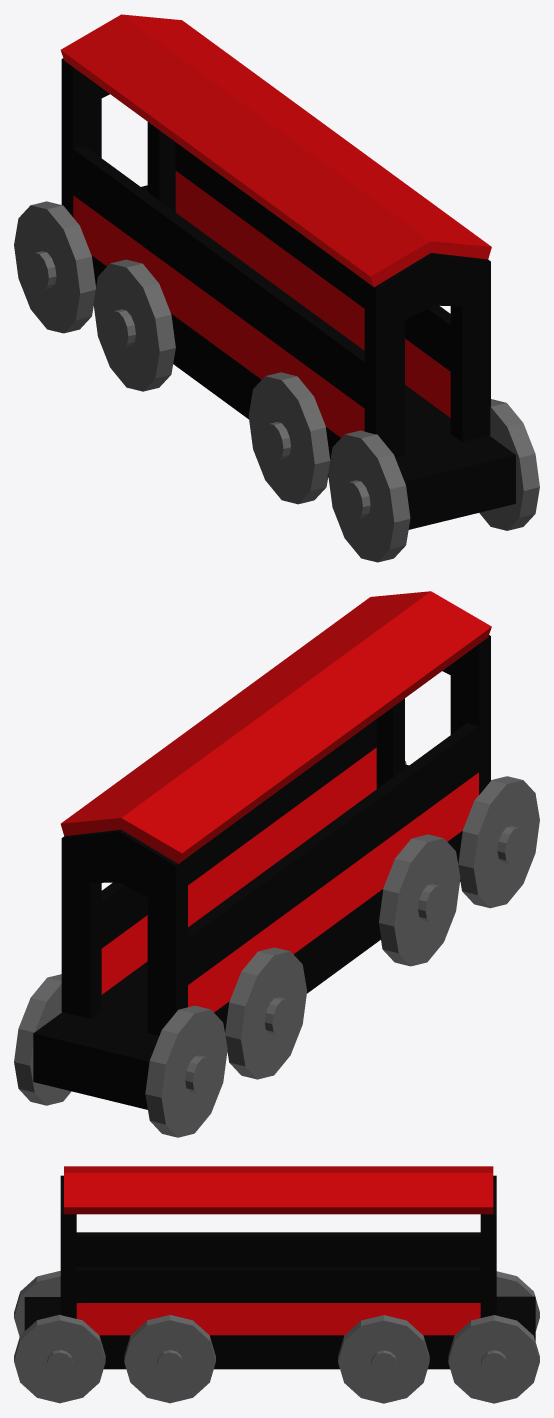
The model's file is basecar.glb.
The picture shows the model from 3 angles, top to bottom: view 1: azimuth 30°, elevation 25°; view 2: azimuth 150°, elevation 25°; view 3: azimuth 270°, elevation 25°; orthographic projection. The views are drawn at different scales.
Parts seen in each view (by area): view 1: BaseCarTop-animcol, BaseCarSideR-animcol, BaseCarSideL-animcol, BaseCarFront-animcol, BaseCarBase-animcol, BaseCarWheelR3-animcol, BaseCarWheelR1-animcol, BaseCarWheelR4-animcol, BaseCarWheelR2-animcol, BaseCarBack-animcol, BaseCarWheelL1-animcol; view 2: BaseCarTop-animcol, BaseCarSideR-animcol, BaseCarSideL-animcol, BaseCarBack-animcol, BaseCarBase-animcol, BaseCarWheelR4-animcol, BaseCarWheelR3-animcol, BaseCarWheelR2-animcol, BaseCarWheelR1-animcol, BaseCarFront-animcol, BaseCarWheelL4-animcol; view 3: BaseCarSideL-animcol, BaseCarTop-animcol, BaseCarSideR-animcol, BaseCarBase-animcol, BaseCarWheelL3-animcol, BaseCarWheelL4-animcol, BaseCarWheelL1-animcol, BaseCarWheelL2-animcol, BaseCarFront-animcol, BaseCarBack-animcol, BaseCarWheelR1-animcol, BaseCarWheelR4-animcol.
Boxes of the visible parts, x1=… form: BaseCarTop-animcol: x1=60, y1=14, x2=491, y2=286; BaseCarSideR-animcol: x1=73, y1=146, x2=364, y2=437; BaseCarSideL-animcol: x1=175, y1=142, x2=450, y2=417; BaseCarFront-animcol: x1=364, y1=253, x2=490, y2=458; BaseCarBase-animcol: x1=91, y1=185, x2=515, y2=529; BaseCarWheelR3-animcol: x1=93, y1=259, x2=175, y2=391; BaseCarWheelR1-animcol: x1=328, y1=430, x2=410, y2=562; BaseCarWheelR4-animcol: x1=14, y1=201, x2=95, y2=333; BaseCarWheelR2-animcol: x1=248, y1=372, x2=330, y2=504; BaseCarBack-animcol: x1=61, y1=58, x2=175, y2=216; BaseCarWheelL1-animcol: x1=479, y1=399, x2=539, y2=530; BaseCarTop-animcol: x1=60, y1=591, x2=491, y2=863; BaseCarSideR-animcol: x1=188, y1=723, x2=478, y2=1012; BaseCarSideL-animcol: x1=101, y1=719, x2=376, y2=994; BaseCarBack-animcol: x1=61, y1=829, x2=187, y2=1035; BaseCarBase-animcol: x1=33, y1=764, x2=462, y2=1109; BaseCarWheelR4-animcol: x1=145, y1=1005, x2=227, y2=1137; BaseCarWheelR3-animcol: x1=225, y1=947, x2=307, y2=1079; BaseCarWheelR2-animcol: x1=379, y1=834, x2=460, y2=966; BaseCarWheelR1-animcol: x1=458, y1=776, x2=539, y2=908; BaseCarFront-animcol: x1=376, y1=635, x2=490, y2=794; BaseCarWheelL4-animcol: x1=14, y1=974, x2=71, y2=1105; BaseCarSideL-animcol: x1=76, y1=1267, x2=480, y2=1335; BaseCarTop-animcol: x1=64, y1=1166, x2=493, y2=1214; BaseCarSideR-animcol: x1=76, y1=1232, x2=480, y2=1266; BaseCarBase-animcol: x1=24, y1=1296, x2=535, y2=1369; BaseCarWheelL3-animcol: x1=338, y1=1315, x2=429, y2=1403; BaseCarWheelL4-animcol: x1=448, y1=1315, x2=539, y2=1403; BaseCarWheelL1-animcol: x1=14, y1=1314, x2=105, y2=1403; BaseCarWheelL2-animcol: x1=124, y1=1315, x2=215, y2=1403; BaseCarFront-animcol: x1=60, y1=1175, x2=76, y2=1318; BaseCarBack-animcol: x1=480, y1=1175, x2=496, y2=1317; BaseCarWheelR1-animcol: x1=14, y1=1271, x2=60, y2=1336; BaseCarWheelR4-animcol: x1=496, y1=1271, x2=539, y2=1331.
Size of the model in its own units: 2.84 by 4.95 by 11.46.
4 materials, 2 textured.
